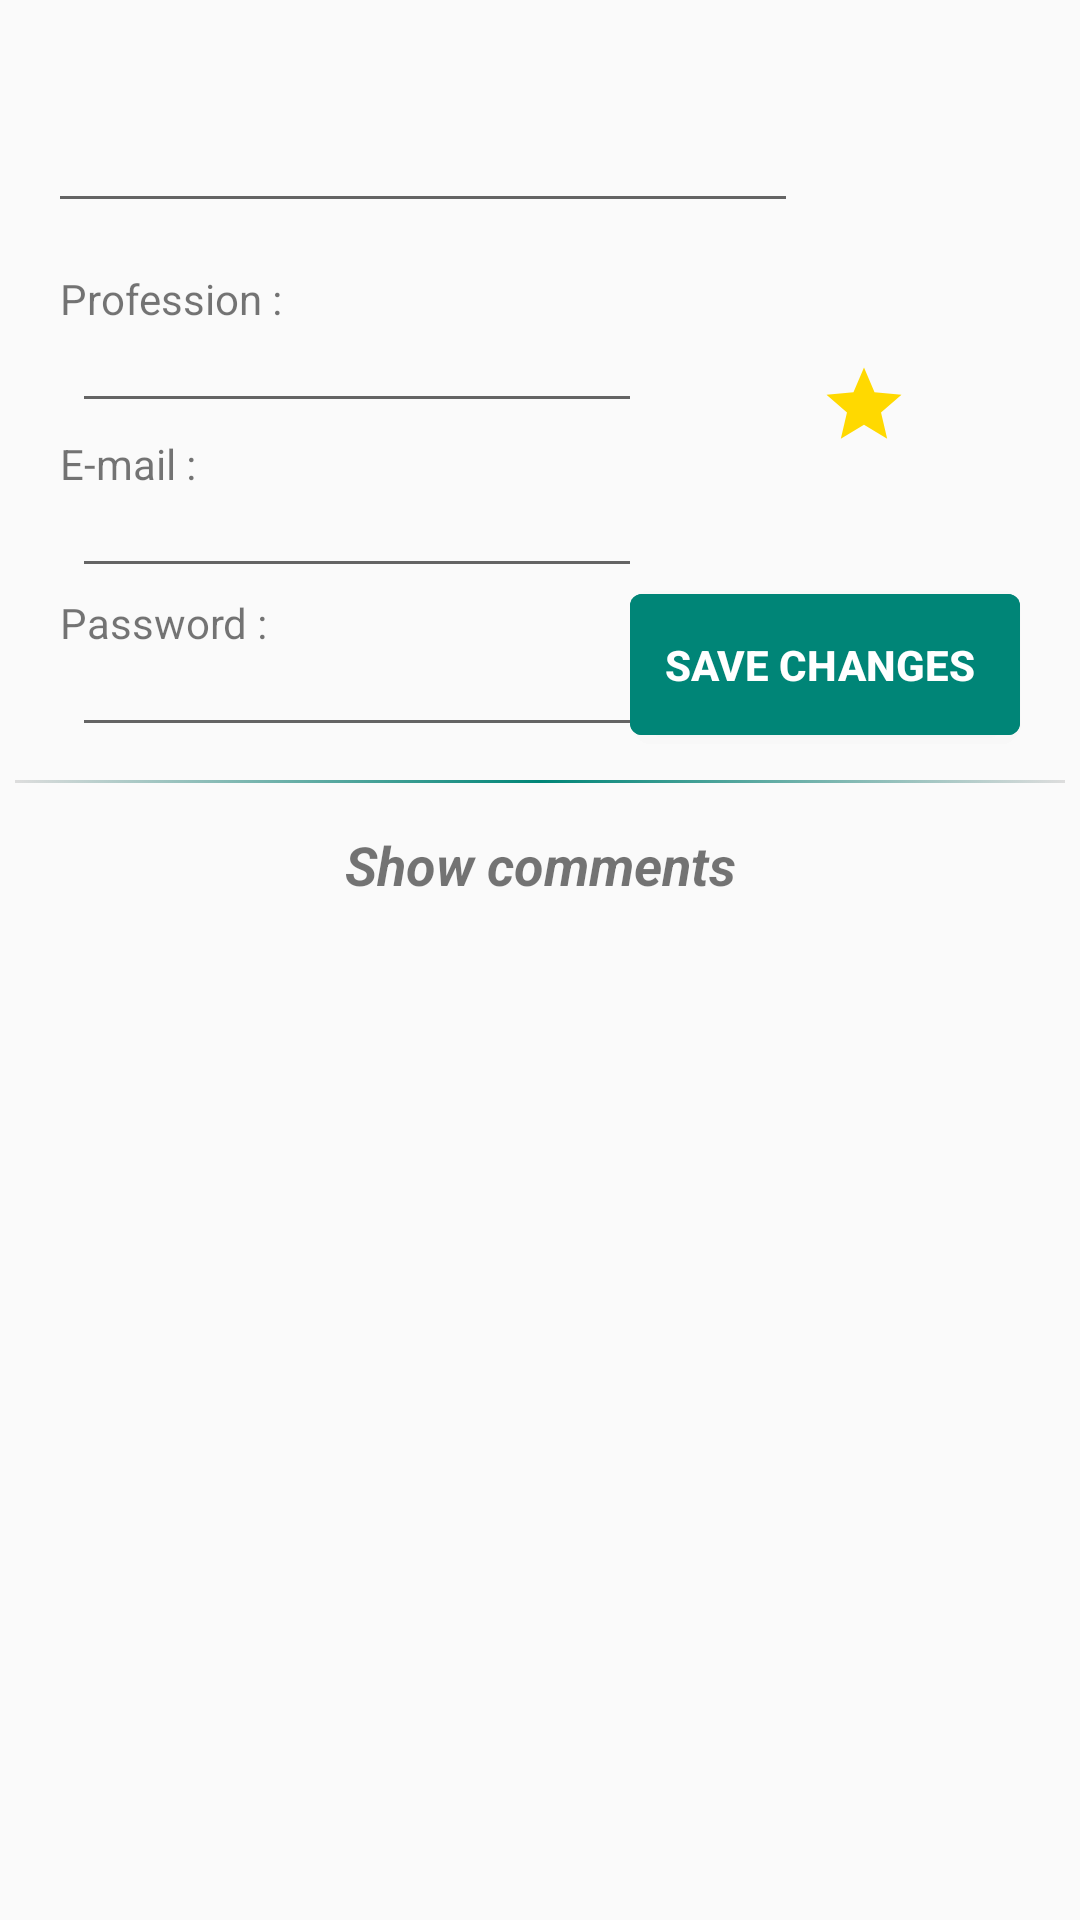

Icon bounding boxes for this 1080 × 1920 phone screenshot, format (x1, y1, x2, y2):
rate star gold: (827, 368, 901, 439)
